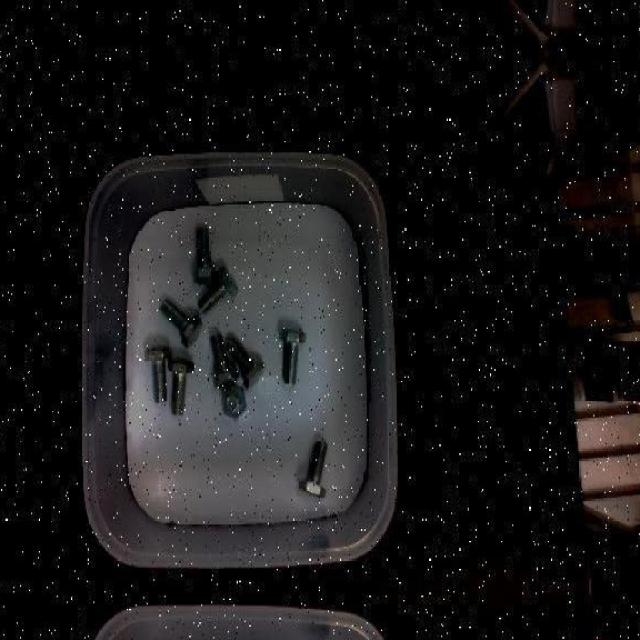screw: (227, 337, 266, 390), (161, 298, 202, 347), (196, 266, 238, 312), (300, 440, 329, 498), (211, 332, 240, 388), (144, 344, 172, 402), (193, 227, 220, 284), (280, 328, 307, 384), (169, 356, 195, 414), (221, 384, 248, 418)
